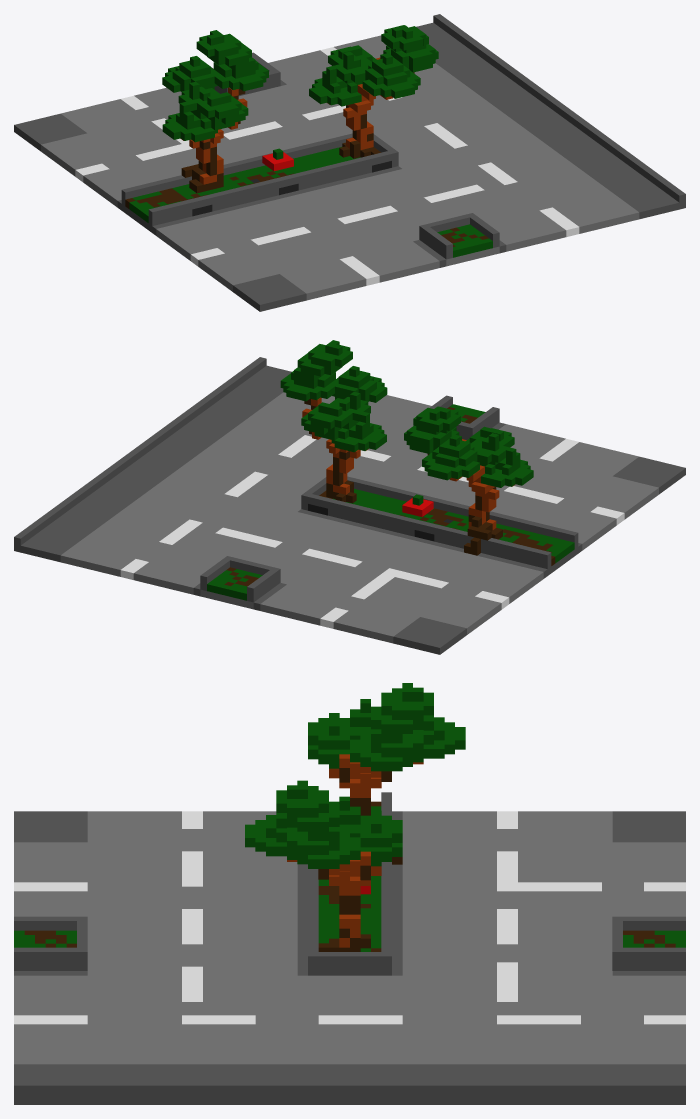
File: StreetKreuzungTWinWin.obj
3 views of the same model, one above another, from view 1: azimuth 30°, elevation 25°; view 2: azimuth 150°, elevation 25°; view 3: azimuth 270°, elevation 25° (orthographic). The views are drawn at different scales.
Parts seen in each view (by area): view 1: StreetKreuzungTWinWin; view 2: StreetKreuzungTWinWin; view 3: StreetKreuzungTWinWin.
Boxes of the visible parts, x1,y1,x2,y2 form: StreetKreuzungTWinWin: (14,14,685,311); StreetKreuzungTWinWin: (14,340,685,654); StreetKreuzungTWinWin: (14,683,685,1104).
Size of the model in its own units: 64 by 21 by 64.
Materials: 1 (1 with a texture image).
